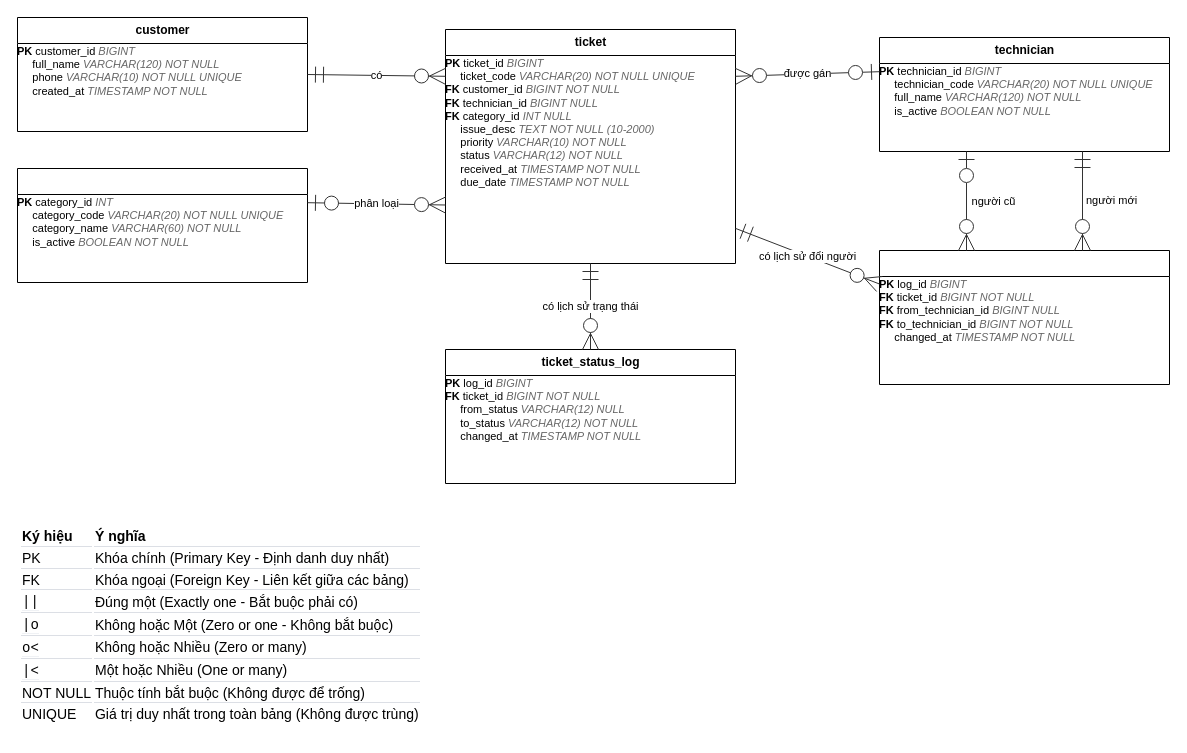
Image size: 1187x753. Some labels were removed from this diagram. Each missing label, with the box of its shape:
issue_category: (16, 168, 308, 282)
ticket_assignment_log: (878, 250, 1170, 384)
